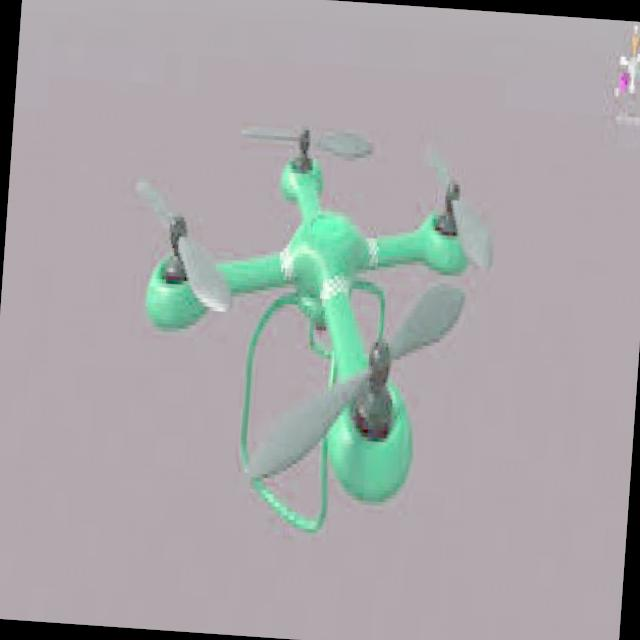drone: (100, 101, 512, 584)
